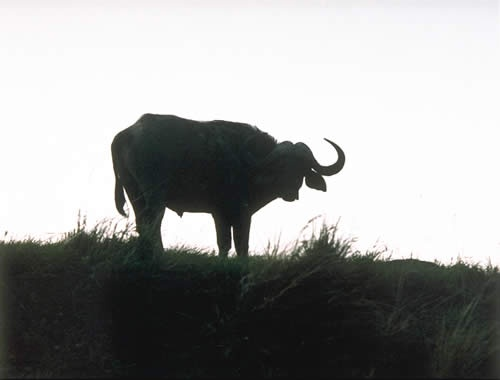buffalo: (109, 110, 347, 259)
